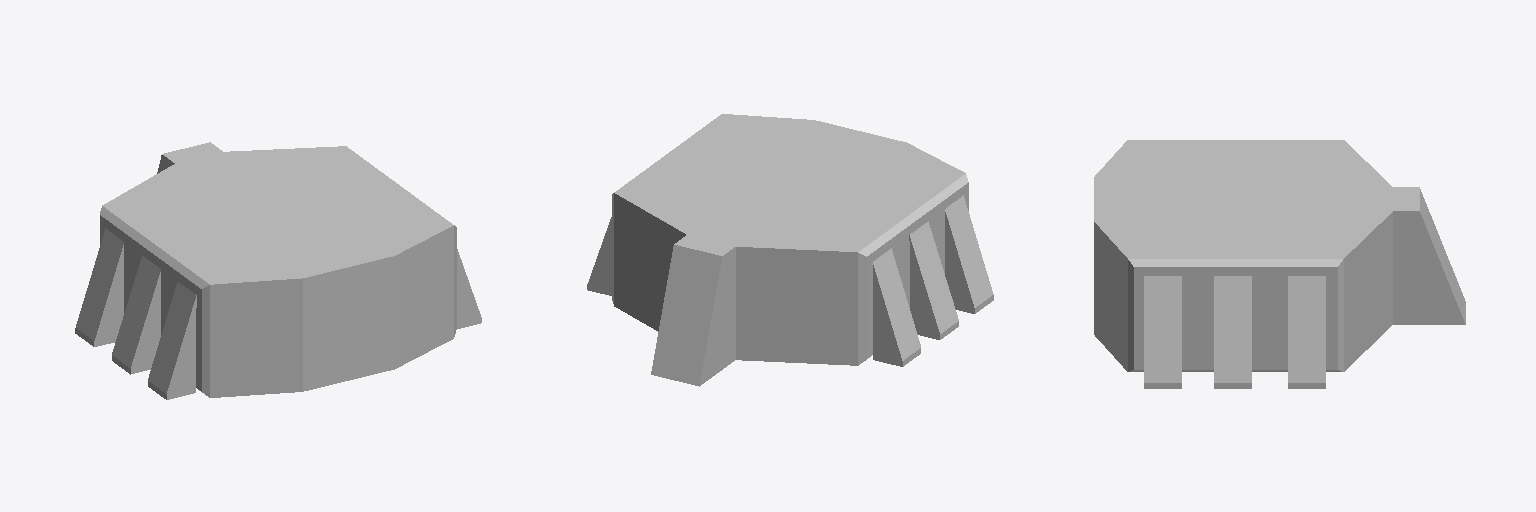
The picture shows the model from 3 angles: view 1: azimuth 30°, elevation 25°; view 2: azimuth 150°, elevation 25°; view 3: azimuth 270°, elevation 25°; orthographic projection.
Visible parts, largest first — view 1: turretBase; view 2: turretBase; view 3: turretBase.
Boxes of the visible parts, x1,y1,x2,y2 form: turretBase: [75, 142, 481, 399]; turretBase: [587, 114, 993, 386]; turretBase: [1094, 140, 1465, 388].
Size of the model in its own units: 3.31 by 1.13 by 3.36.